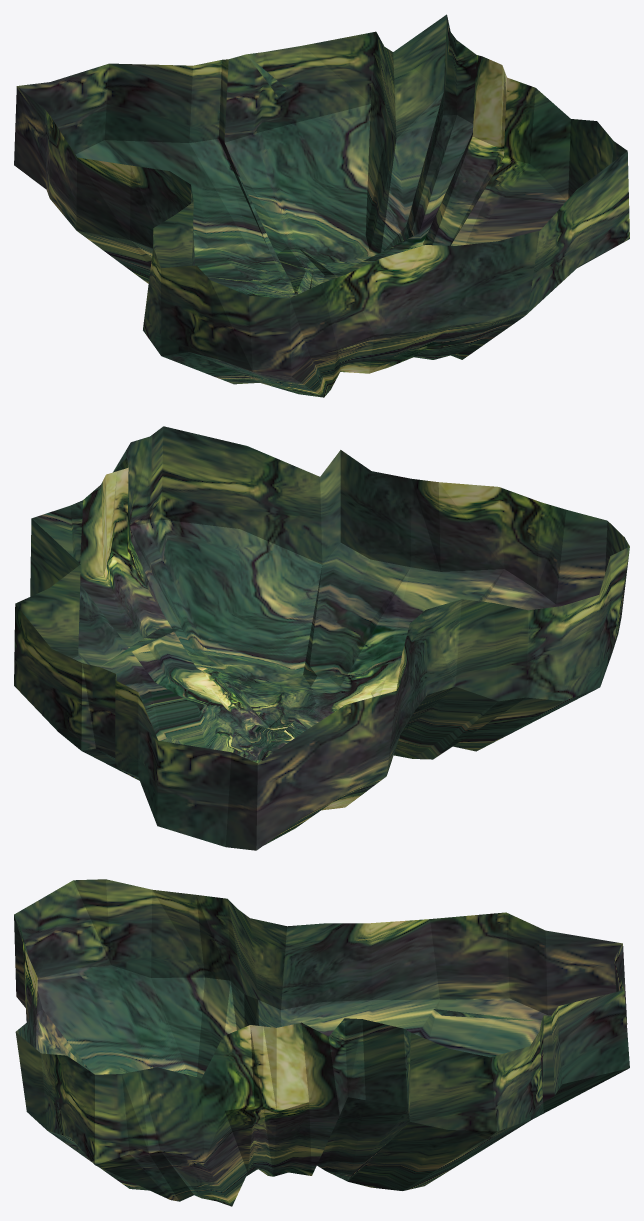
Rendered from MainIsland_Lat.gltf.
3 renders of one model, top to bottom at view 1: azimuth 30°, elevation 25°; view 2: azimuth 150°, elevation 25°; view 3: azimuth 270°, elevation 25°, orthographic. The views are drawn at different scales.
Visible parts, largest first — view 1: MainIsland_Lat; view 2: MainIsland_Lat; view 3: MainIsland_Lat.
Part boxes in pixels (bbox=[...]): MainIsland_Lat: bbox=[14, 14, 629, 397]; MainIsland_Lat: bbox=[14, 426, 629, 850]; MainIsland_Lat: bbox=[14, 879, 629, 1206].
Bounding box in the file's own units: 324 × 155 × 386.
Materials: 1 (1 with a texture image).
